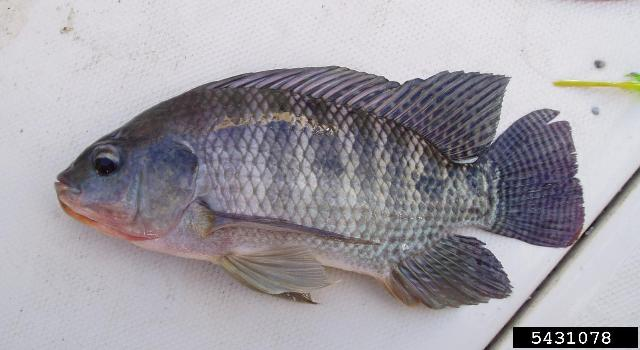Mulut: (40, 151, 92, 225)
Sirip Anal: (372, 229, 520, 313)
Sirip Dada: (190, 184, 394, 264)
Sirip Ekor: (473, 104, 593, 254)
Sirip Perut: (206, 233, 344, 317)
Sirip Punggung: (190, 43, 514, 166)
